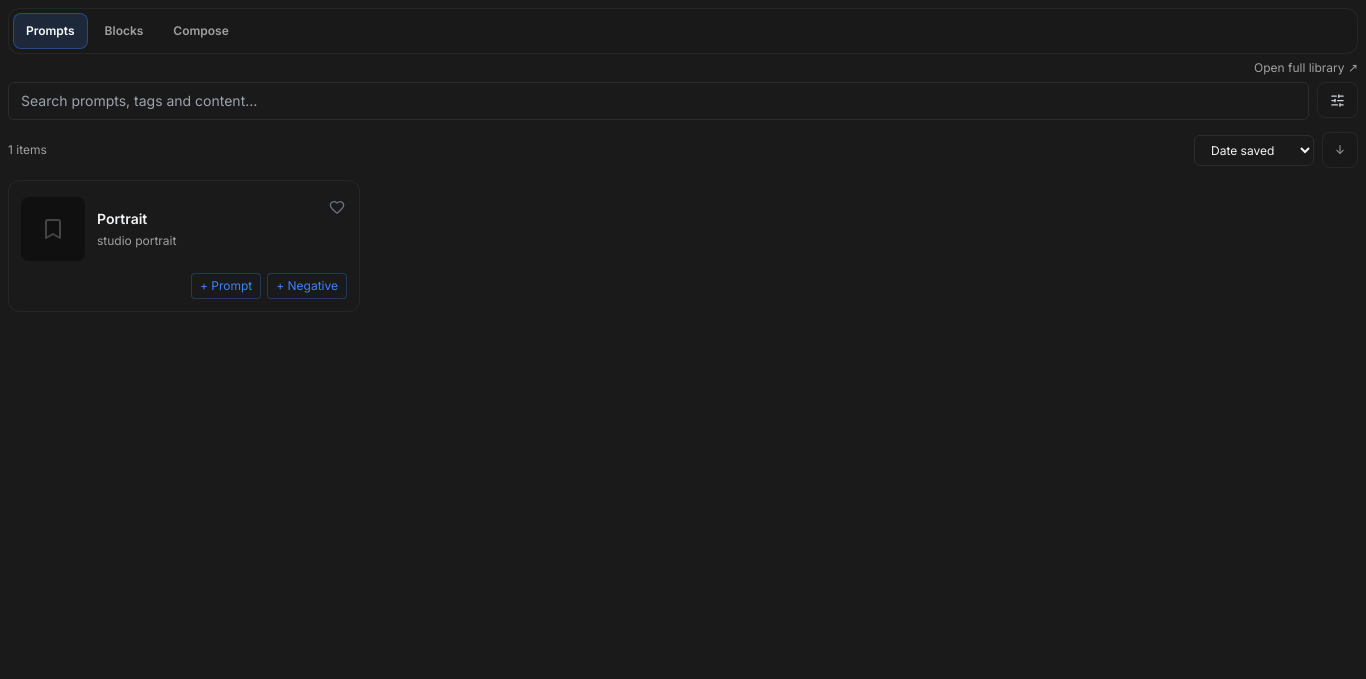
Test: opens the Workspace editor with the latest item after a pending tag save
Click the button with aria-label "Open Portrait": {"x": 53, "y": 229} [21, 193, 347, 265]
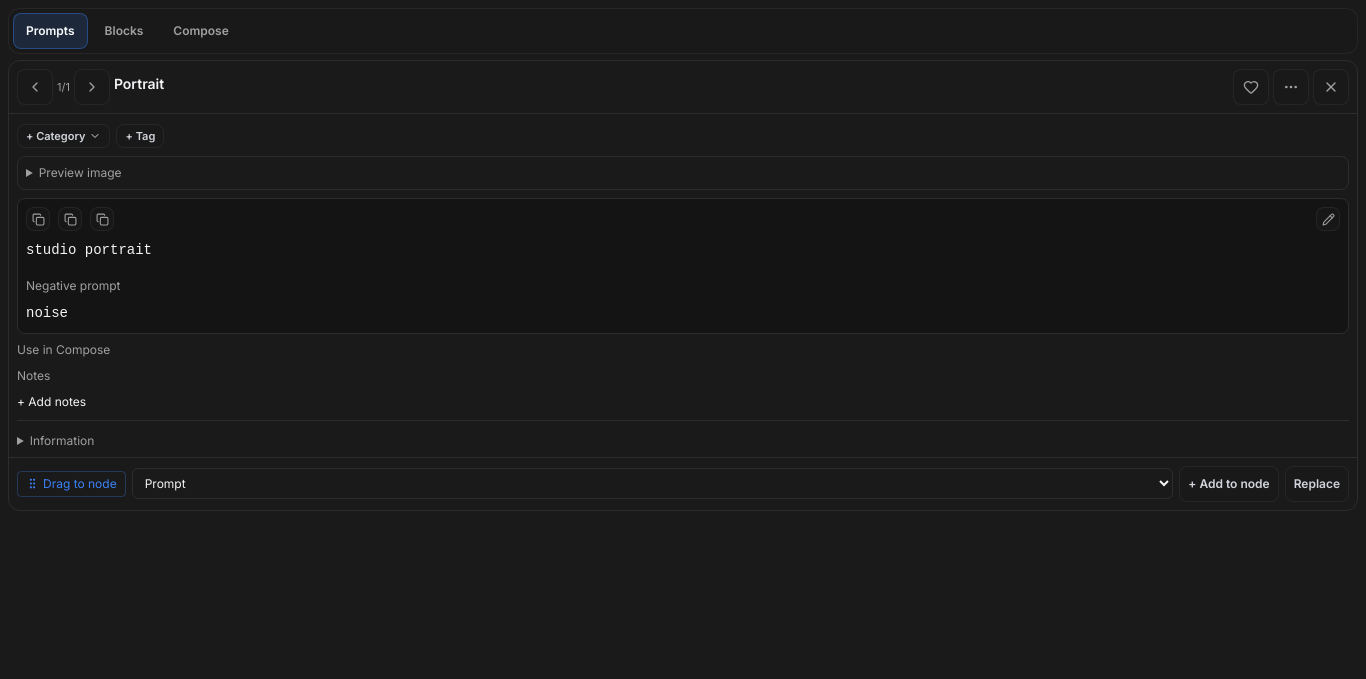
Click the button "+ Tag": {"x": 140, "y": 136} [116, 124, 164, 148]
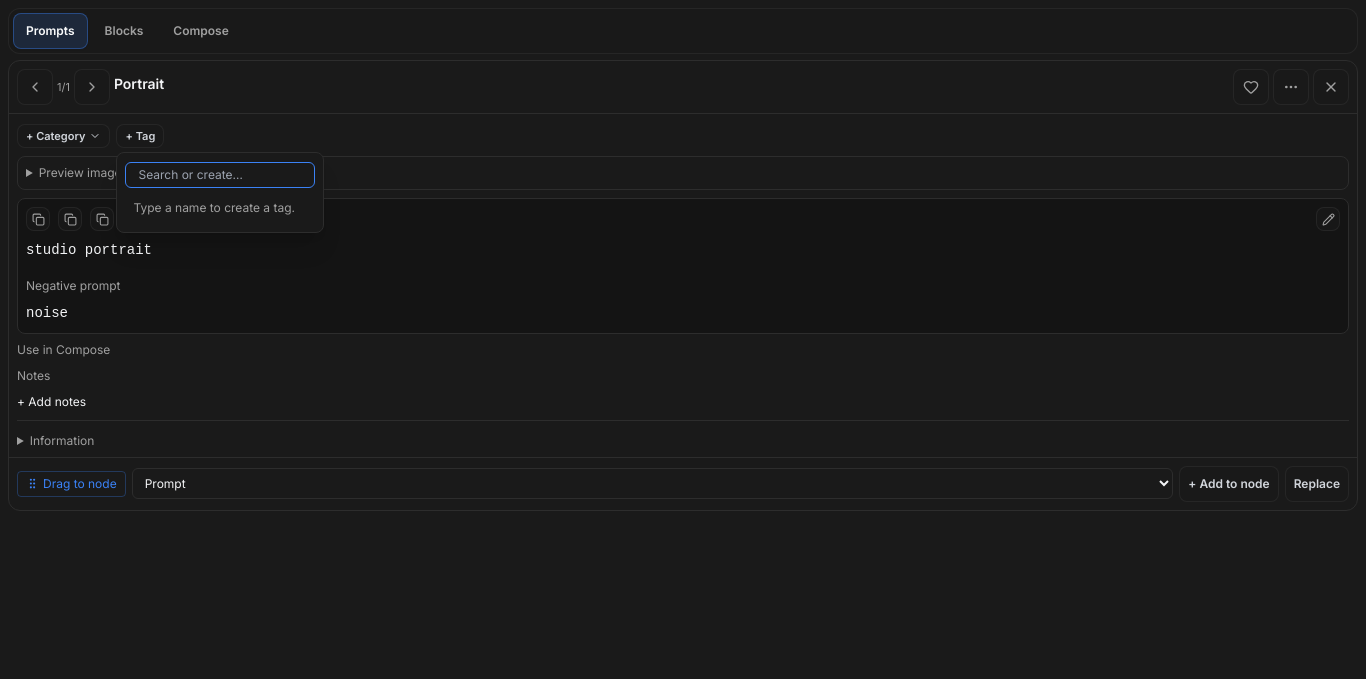
In the field named "Search or create tag": {"x": 220, "y": 175} [126, 162, 316, 188], type "new-tag"
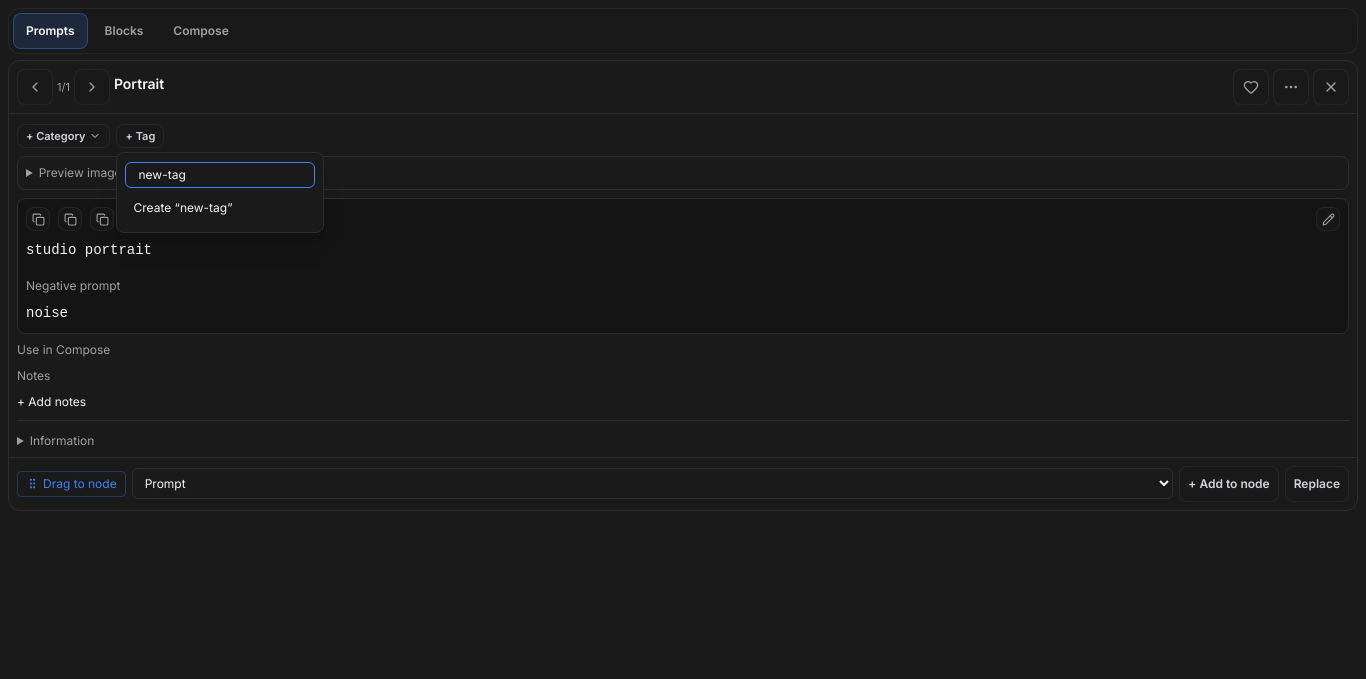
Press Enter in the field named "Search or create tag", box [126, 162, 316, 188]
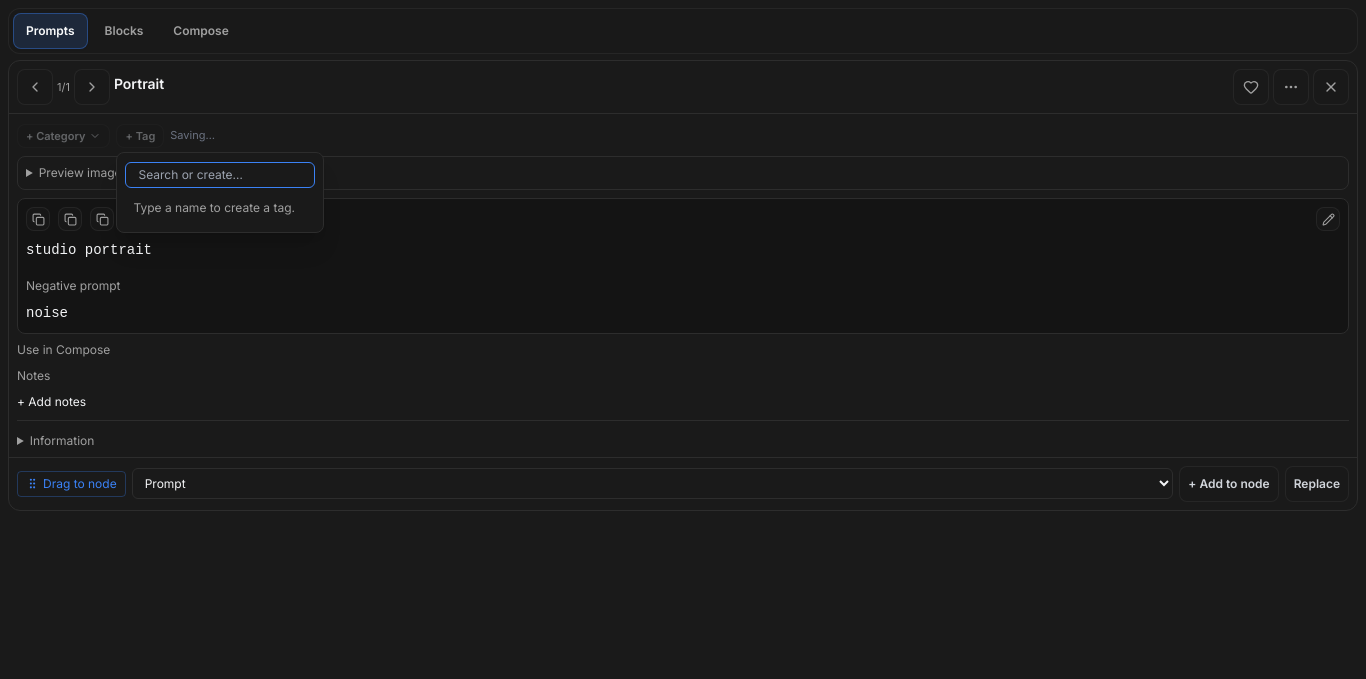
Click the button named "Edit content": {"x": 1328, "y": 219} [1316, 207, 1340, 231]
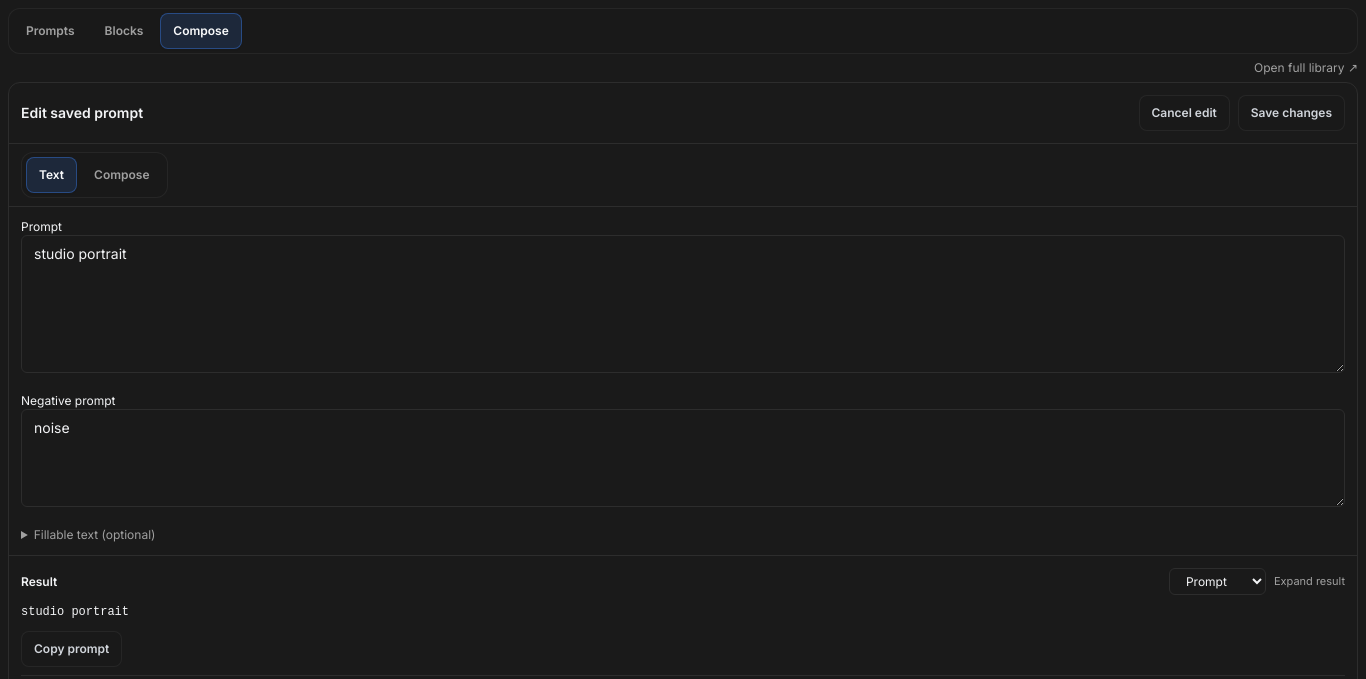
Expected: the heading "Edit saved prompt" is shown, [21, 103, 143, 123]
Click the button "Save changes": {"x": 1291, "y": 113} [1238, 95, 1345, 131]
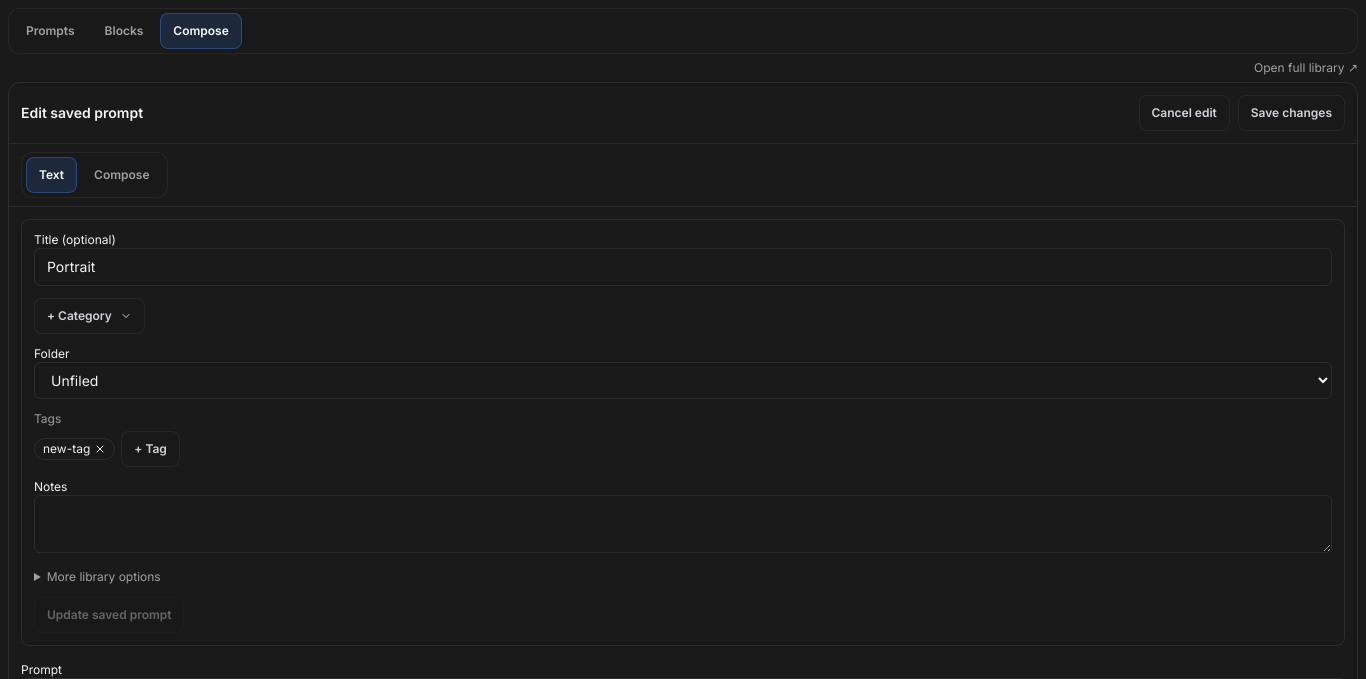
Expected: the message "Saving…" is not shown
Expected: the button named "Remove tag new-tag" is shown, [94, 443, 106, 455]
